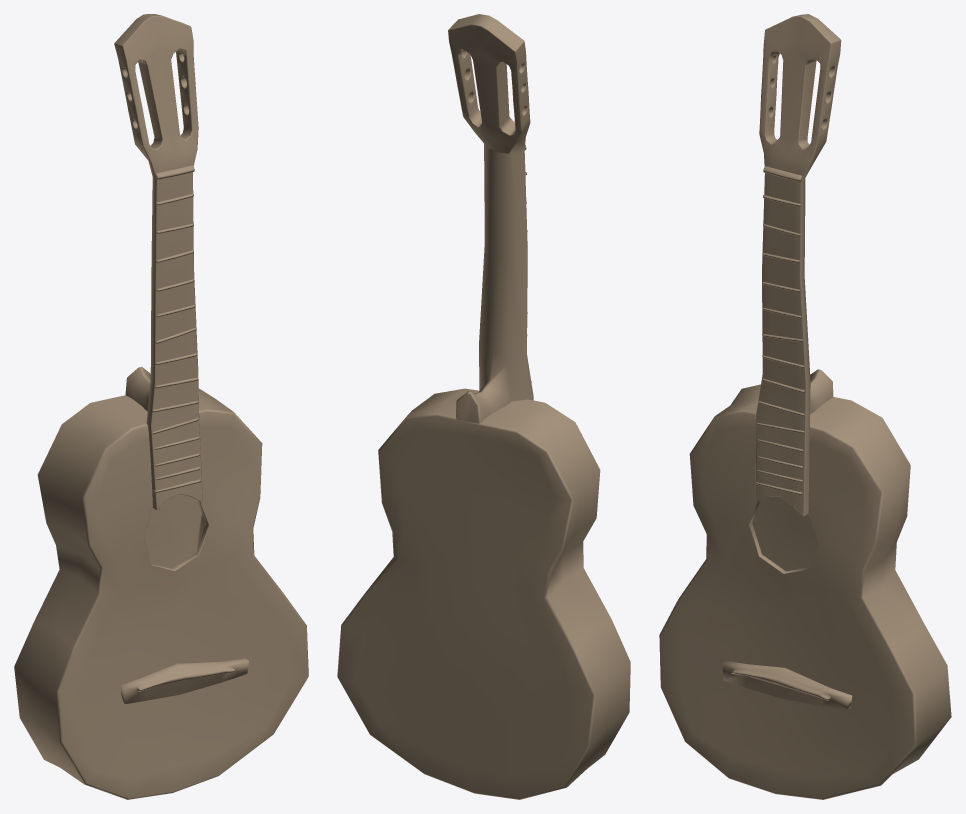
File: SM_Guitar_LP1.fbx
3 renders of one model, left to right at view 1: azimuth 30°, elevation 25°; view 2: azimuth 150°, elevation 25°; view 3: azimuth 330°, elevation 25°, orthographic.
Visible parts, largest first — view 1: SM_Guitar_LP1; view 2: SM_Guitar_LP1; view 3: SM_Guitar_LP1.
Part boxes in pixels (x1=…): SM_Guitar_LP1: x1=14, y1=14, x2=308, y2=799; SM_Guitar_LP1: x1=337, y1=14, x2=630, y2=799; SM_Guitar_LP1: x1=659, y1=14, x2=951, y2=799.
Bounding box in the file's own units: 46.72 × 131 × 15.14.
